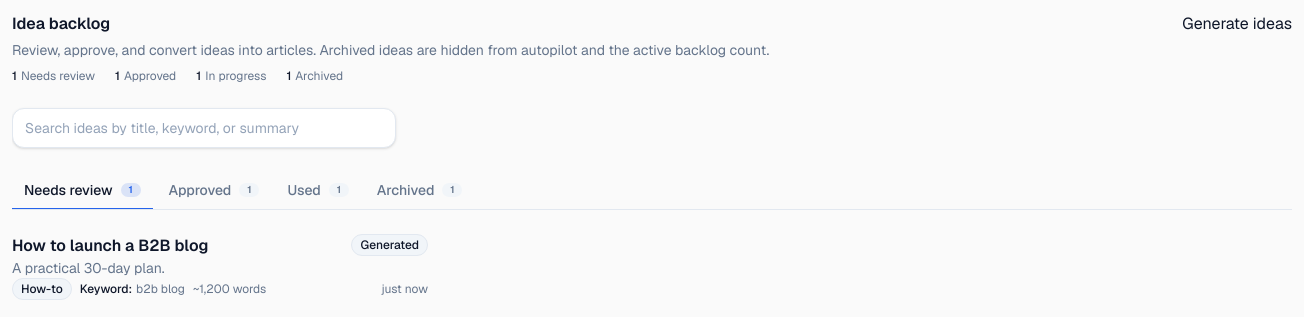
Test case: IdeasList › renders the Used tab content when active
Step 1. Click the tab "Used 1" → (318, 191), box [275, 172, 361, 210]
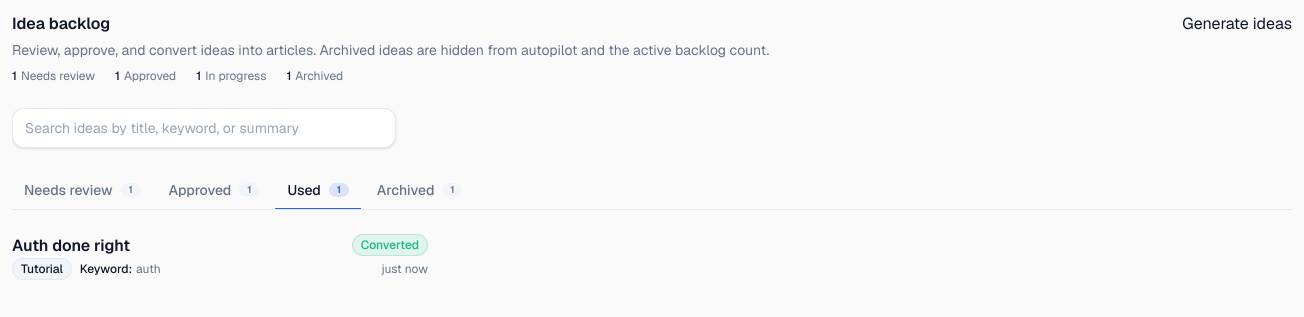
Check: the heading "Auth done right" is shown, box [12, 234, 130, 258]
